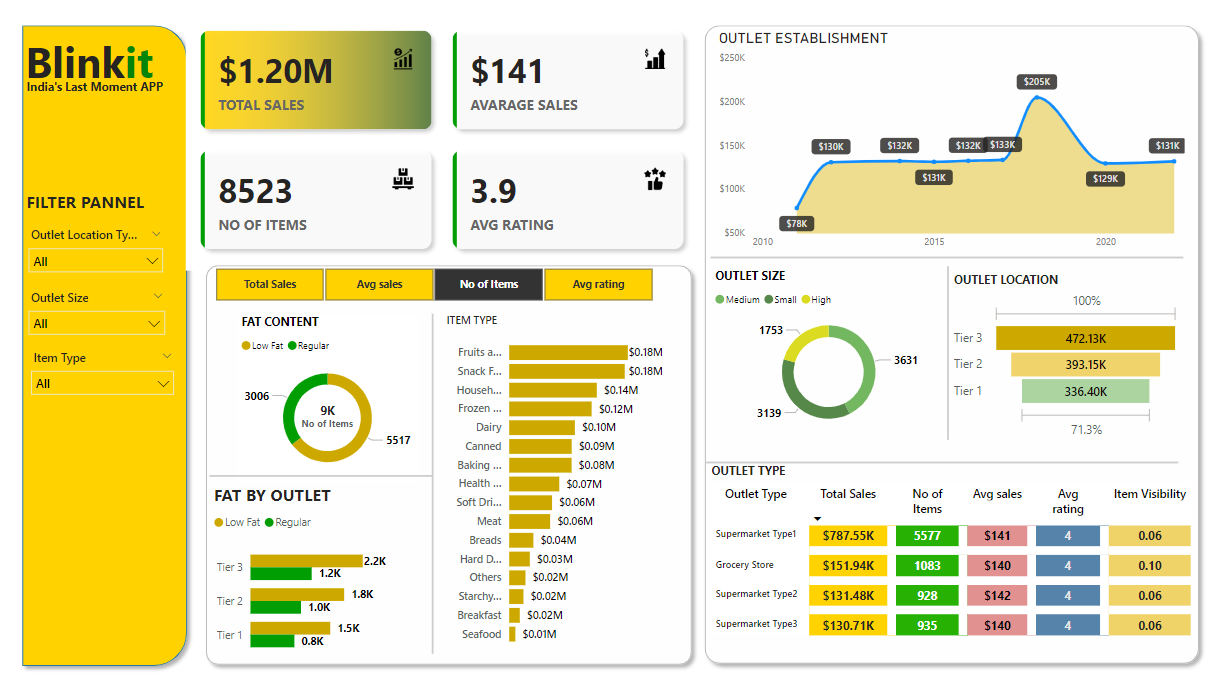

The dashboard page shown, as its layout file describes it:
{"tool":"powerbi","page":{"name":"Page 1","canvas":[1400,800],"ordinal":0},"visuals":[{"type":"shape","box":[20,26,206,750],"z":0},{"type":"textbox","box":[27.1,38.6,172.9,88.6],"z":1000},{"type":"textbox","box":[28,90,190,36],"z":2000},{"type":"cardVisual","fields":{"Data":["Measurments.Total Sales","Measurments.Avg sales","Measurments.No of Items","Measurments.Avg rating"]},"box":[216,28,586,286],"z":3000},{"type":"shape","box":[230,300,572.9,474.3],"z":4000},{"type":"donutChart","title":"FAT CONTENT","fields":{"Y":["Measurments.No of Items"],"Category":["BlinkIT Grocery Data.Item Fat Content"]},"box":[274.3,364.3,207.1,192.9],"z":5000},{"type":"slicer","fields":{"Values":["Martrics.Martrics"]},"box":[224.3,305.7,548.6,50],"z":6000},{"type":"cardVisual","fields":{"Data":["Measurments.No of Items"]},"box":[320,436.2,115,90],"z":7000},{"type":"clusteredBarChart","title":"FAT BY OUTLET","fields":{"Y":["Measurments.No of Items"],"Series":["BlinkIT Grocery Data.Item Fat Content"],"Category":["BlinkIT Grocery Data.Outlet Location Type"]},"box":[242.6,559,206.4,209.1],"z":8000},{"type":"shape","box":[243.3,526.7,255,45],"z":9000},{"type":"shape","box":[481.4,364.3,32.9,388.6],"z":10000},{"type":"barChart","title":"ITEM TYPE","fields":{"Y":["Measurments.No of Items"],"Category":["BlinkIT Grocery Data.Item Type"]},"box":[508.6,362.9,257.1,390],"z":11000},{"type":"shape","box":[800,25,582.5,747.5],"z":12000},{"type":"lineChart","title":"OUTLET ESTABLISHMENT","fields":{"Y":["Measurments.Total Sales"],"Category":["BlinkIT Grocery Data.Outlet Establishment Year"]},"box":[820,38.8,542.5,261.2],"z":13000},{"type":"shape","box":[816.2,290,540,20],"z":14000},{"type":"donutChart","title":"OUTLET SIZE","fields":{"Y":["Measurments.No of Items"],"Category":["BlinkIT Grocery Data.Outlet Size"]},"box":[816,312,270,194],"z":15000},{"type":"shape","box":[1078.3,310,16.7,198.3],"z":16000},{"type":"funnel","title":"OUTLET LOCATION","fields":{"Y":["Sum(BlinkIT Grocery Data.Sales)"],"Category":["BlinkIT Grocery Data.Outlet Location Type"]},"box":[1088,316,268,196],"z":17000},{"type":"shape","box":[810,524,540,20],"z":18000},{"type":"pivotTable","title":"OUTLET TYPE","fields":{"Values":["Measurments.Total Sales","Measurments.No of Items","Measurments.Avg sales","Measurments.Avg rating","Avg(BlinkIT Grocery Data.Item Visibility)"],"Rows":["BlinkIT Grocery Data.Outlet Type"]},"box":[811.4,534.3,567.1,230],"z":19000},{"type":"slicer","fields":{"Values":["BlinkIT Grocery Data.Outlet Location Type"]},"box":[26,260,174,82],"z":20000},{"type":"slicer","fields":{"Values":["BlinkIT Grocery Data.Outlet Size"]},"box":[26,332,176,80],"z":21000},{"type":"slicer","fields":{"Values":["BlinkIT Grocery Data.Item Type"]},"box":[28.2,399.5,183.6,83.1],"z":22000},{"type":"textbox","box":[38,226,174,34],"z":23000}]}

Visuals, with their boxes in screenshot pixels (x1, y1, x2, y2), scaled from the page's 1400x800 canvas onto the 1213x695 screenshot:
shape: box=[17, 23, 196, 674]
textbox: box=[23, 34, 173, 111]
textbox: box=[24, 78, 189, 109]
cardVisual - Measurments.Total Sales x Measurments.Avg sales: box=[187, 24, 695, 273]
shape: box=[199, 261, 696, 673]
"FAT CONTENT" donutChart: box=[238, 316, 417, 484]
slicer - Martrics.Martrics: box=[194, 266, 670, 309]
cardVisual - Measurments.No of Items: box=[277, 379, 377, 457]
"FAT BY OUTLET" clusteredBarChart: box=[210, 486, 389, 667]
shape: box=[211, 458, 432, 497]
shape: box=[417, 316, 446, 654]
"ITEM TYPE" barChart: box=[441, 315, 663, 654]
shape: box=[693, 22, 1198, 671]
"OUTLET ESTABLISHMENT" lineChart: box=[710, 34, 1181, 261]
shape: box=[707, 252, 1175, 269]
"OUTLET SIZE" donutChart: box=[707, 271, 941, 440]
shape: box=[934, 269, 949, 442]
"OUTLET LOCATION" funnel: box=[943, 275, 1175, 445]
shape: box=[702, 455, 1170, 473]
"OUTLET TYPE" pivotTable: box=[703, 464, 1194, 664]
slicer - BlinkIT Grocery Data.Outlet Location Type: box=[23, 226, 173, 297]
slicer - BlinkIT Grocery Data.Outlet Size: box=[23, 288, 175, 358]
slicer - BlinkIT Grocery Data.Item Type: box=[24, 347, 184, 419]
textbox: box=[33, 196, 184, 226]
